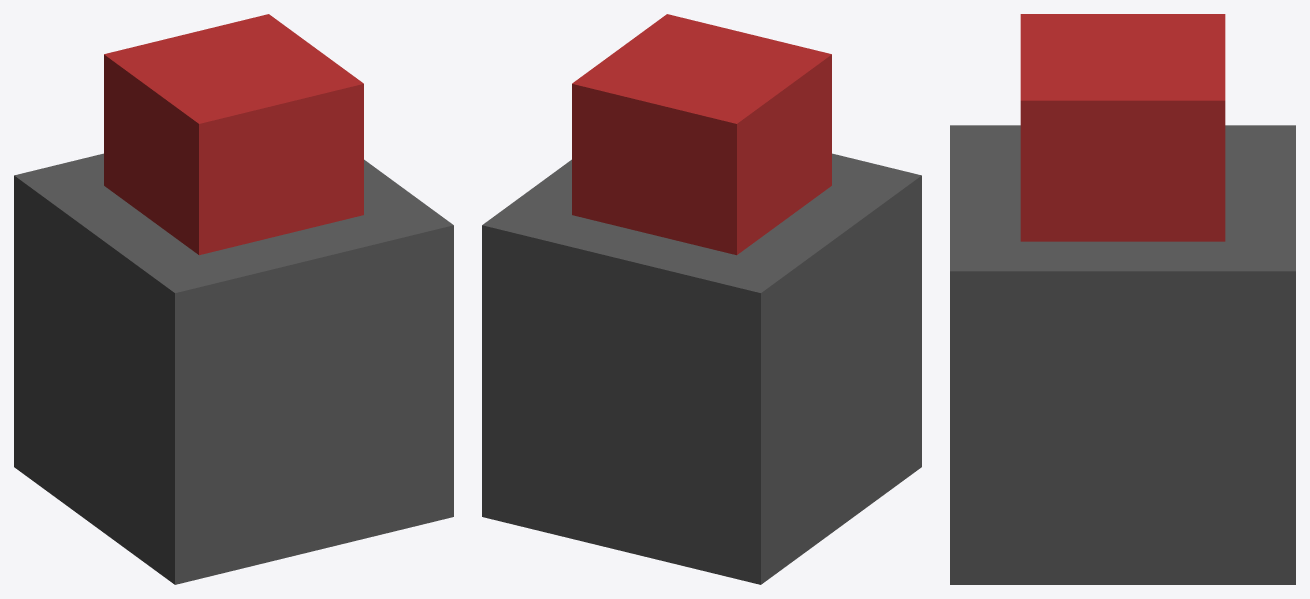
The model's file is UpButton.fbx.
3 renders of one model, left to right at view 1: azimuth 30°, elevation 25°; view 2: azimuth 150°, elevation 25°; view 3: azimuth 270°, elevation 25°, orthographic. The views are drawn at different scales.
Parts seen in each view (by area): view 1: pCube3; view 2: pCube3; view 3: pCube3.
Boxes of the visible parts, box(x1,y1,x2,y2) form: pCube3: box(14, 14, 453, 584); pCube3: box(482, 14, 921, 584); pCube3: box(950, 14, 1295, 584).
Bounding box in the file's own units: 1 × 1.45 × 1.
